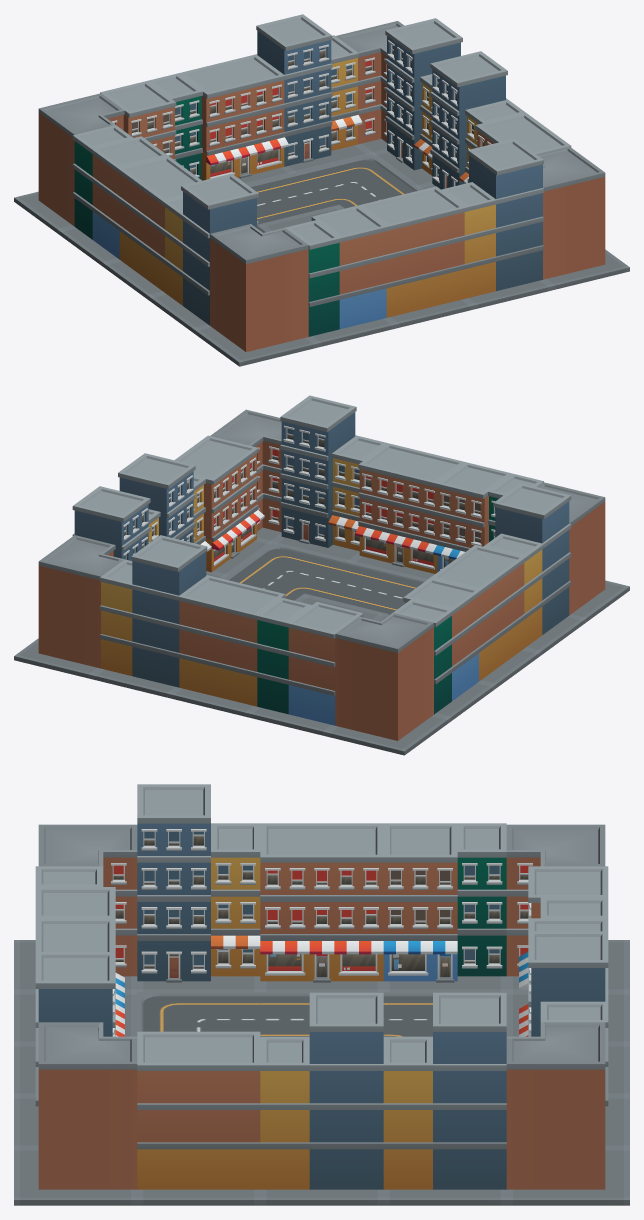
The model's file is city_2.glb.
The picture shows the model from 3 angles, top to bottom: view 1: azimuth 30°, elevation 25°; view 2: azimuth 150°, elevation 25°; view 3: azimuth 270°, elevation 25°; orthographic projection. The views are drawn at different scales.
Parts seen in each view (by area): view 1: BuildingCorner_B.002, FullBuilding_A.004, FullBuilding_A.002, FullBuilding_B.003, FullBuilding_C.002, FullBuilding_B.001, FullBuilding_A.003, BuildingCorner_B, FullBuilding_A, FullBuilding_A.001, FullBuilding_C.001, FullBuilding_B.002 (+7 smaller); view 2: BuildingCorner_B.003, FullBuilding_A.004, FullBuilding_A.002, FullBuilding_B.001, FullBuilding_C, FullBuilding_B.003, FullBuilding_A.003, BuildingCorner_B.001, FullBuilding_B, FullBuilding_B.002, FullBuilding_C.001, FullBuilding_C.002 (+6 smaller); view 3: FullBuilding_A.001, FullBuilding_A, FullBuilding_A.003, FullBuilding_B, FullBuilding_B.002, FullBuilding_C.001, BuildingCorner_B, BuildingCorner_B.001, FullBuilding_A.002, BuildingCorner_B.002, BuildingCorner_B.003, FullBuilding_A.004 (+7 smaller).
Part boxes in pixels (x1=…): BuildingCorner_B.002: x1=194, y1=224, x2=317, y2=366; FullBuilding_A.004: x1=441, y1=138, x2=551, y2=309; FullBuilding_A.002: x1=256, y1=14, x2=370, y2=173; FullBuilding_B.003: x1=359, y1=186, x2=473, y2=328; FullBuilding_C.002: x1=285, y1=205, x2=395, y2=347; FullBuilding_B.001: x1=178, y1=54, x2=292, y2=184; FullBuilding_A.003: x1=149, y1=173, x2=258, y2=333; BuildingCorner_B: x1=536, y1=146, x2=629, y2=290; FullBuilding_A: x1=372, y1=18, x2=462, y2=187; FullBuilding_A.001: x1=417, y1=51, x2=525, y2=189; FullBuilding_C.001: x1=59, y1=125, x2=167, y2=267; FullBuilding_B.002: x1=104, y1=156, x2=201, y2=300; BuildingCorner_B.003: x1=326, y1=612, x2=449, y2=755; FullBuilding_A.004: x1=273, y1=395, x2=387, y2=562; FullBuilding_A.002: x1=92, y1=535, x2=207, y2=698; FullBuilding_B.001: x1=170, y1=575, x2=285, y2=717; FullBuilding_C: x1=248, y1=597, x2=363, y2=736; FullBuilding_B.003: x1=351, y1=443, x2=465, y2=580; FullBuilding_A.003: x1=483, y1=483, x2=584, y2=656; BuildingCorner_B.001: x1=14, y1=535, x2=124, y2=679; FullBuilding_B: x1=174, y1=435, x2=271, y2=575; FullBuilding_B.002: x1=430, y1=545, x2=539, y2=688; FullBuilding_C.001: x1=393, y1=578, x2=494, y2=721; FullBuilding_C.002: x1=433, y1=462, x2=543, y2=571; FullBuilding_A.001: x1=260, y1=992, x2=383, y2=1205; FullBuilding_A: x1=383, y1=992, x2=506, y2=1205; FullBuilding_A.003: x1=137, y1=784, x2=260, y2=991; FullBuilding_B: x1=137, y1=1031, x2=260, y2=1205; FullBuilding_B.002: x1=260, y1=823, x2=383, y2=991; FullBuilding_C.001: x1=383, y1=823, x2=506, y2=991; BuildingCorner_B: x1=14, y1=1022, x2=137, y2=1205; BuildingCorner_B.001: x1=506, y1=1022, x2=629, y2=1205; FullBuilding_A.002: x1=528, y1=931, x2=629, y2=1147; BuildingCorner_B.002: x1=14, y1=824, x2=137, y2=991; BuildingCorner_B.003: x1=506, y1=824, x2=629, y2=991; FullBuilding_A.004: x1=14, y1=952, x2=115, y2=1147.
Size of the model in its own units: 50 by 15.25 by 50.
25 materials, 25 textured.
